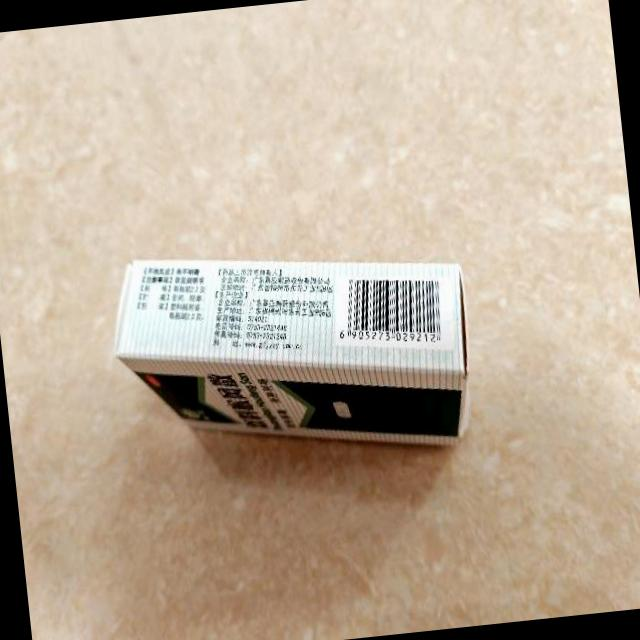box: (104, 227, 482, 476)
